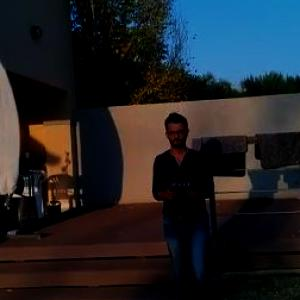follow: (148, 106, 222, 299)
